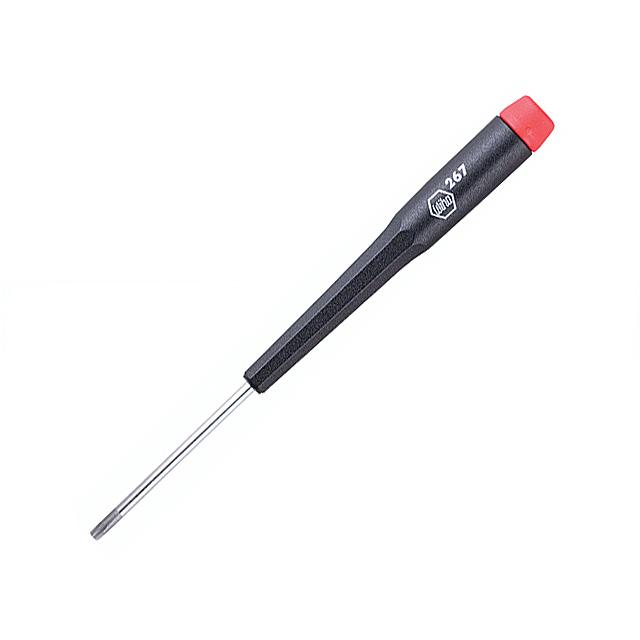screw_driver: (88, 96, 556, 542)
